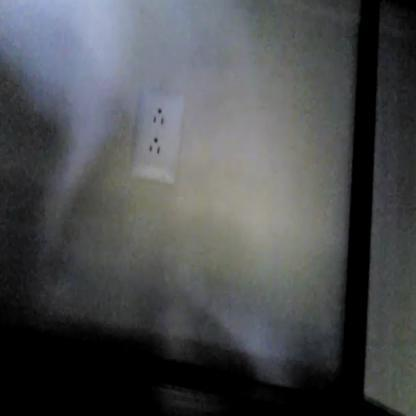OUTLET: (132, 85, 186, 184)
